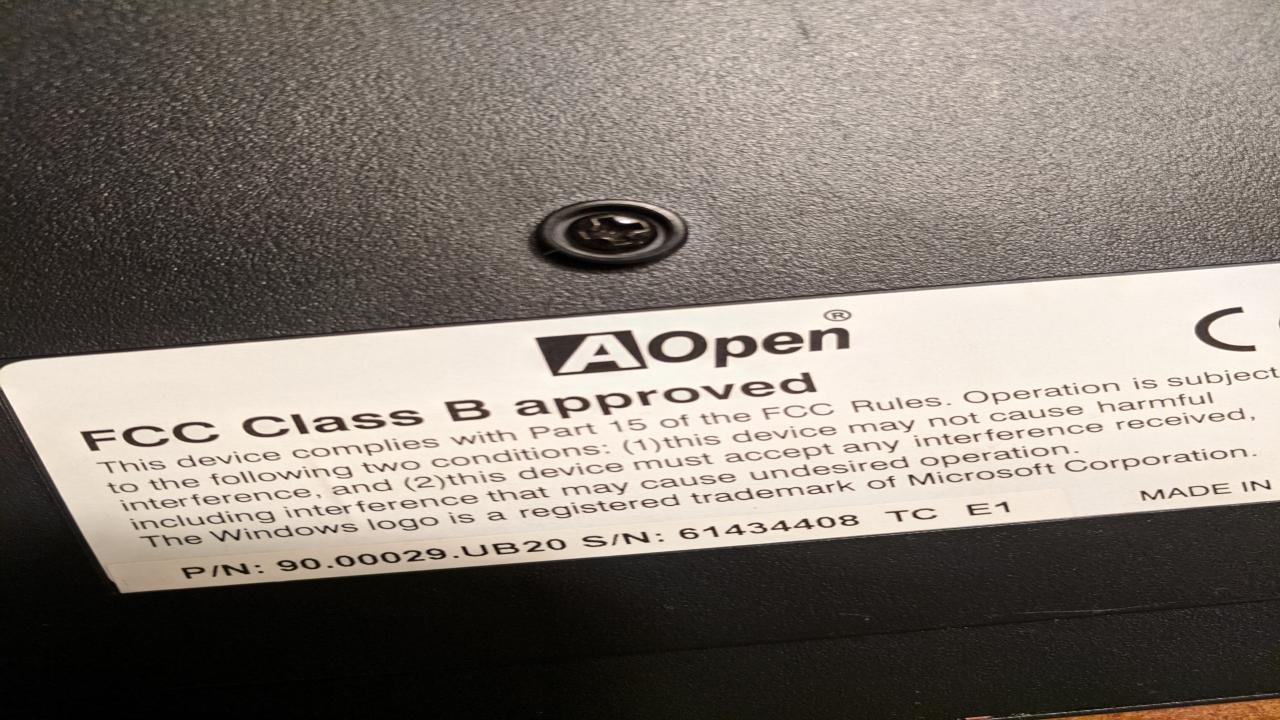CRS: (560, 214, 660, 253)
